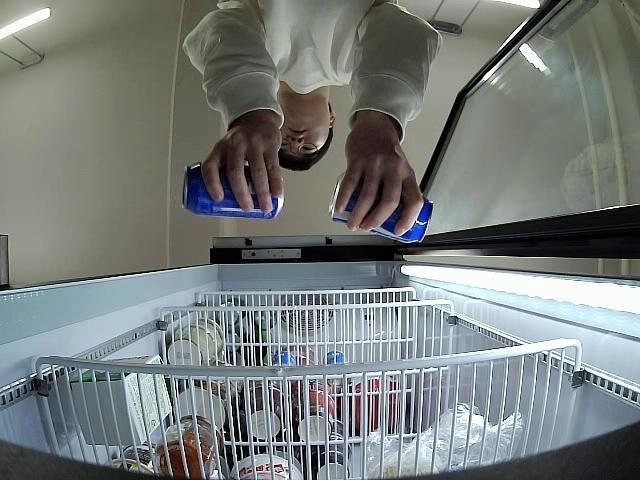13_pocariSweat: (327, 172, 434, 244), (180, 162, 286, 221)
